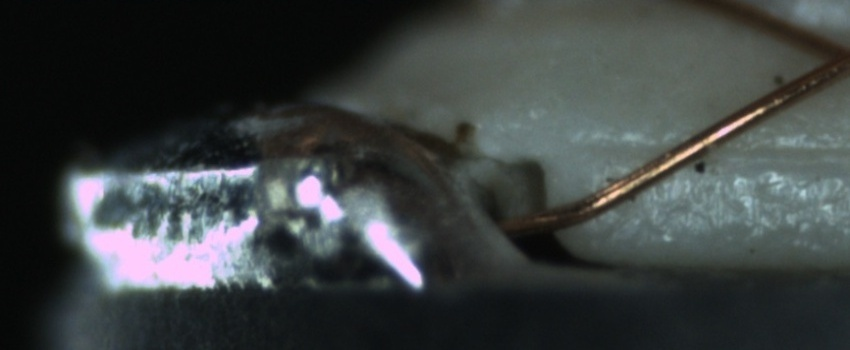CL: (801, 25, 850, 88)
DL: (606, 118, 847, 184)
